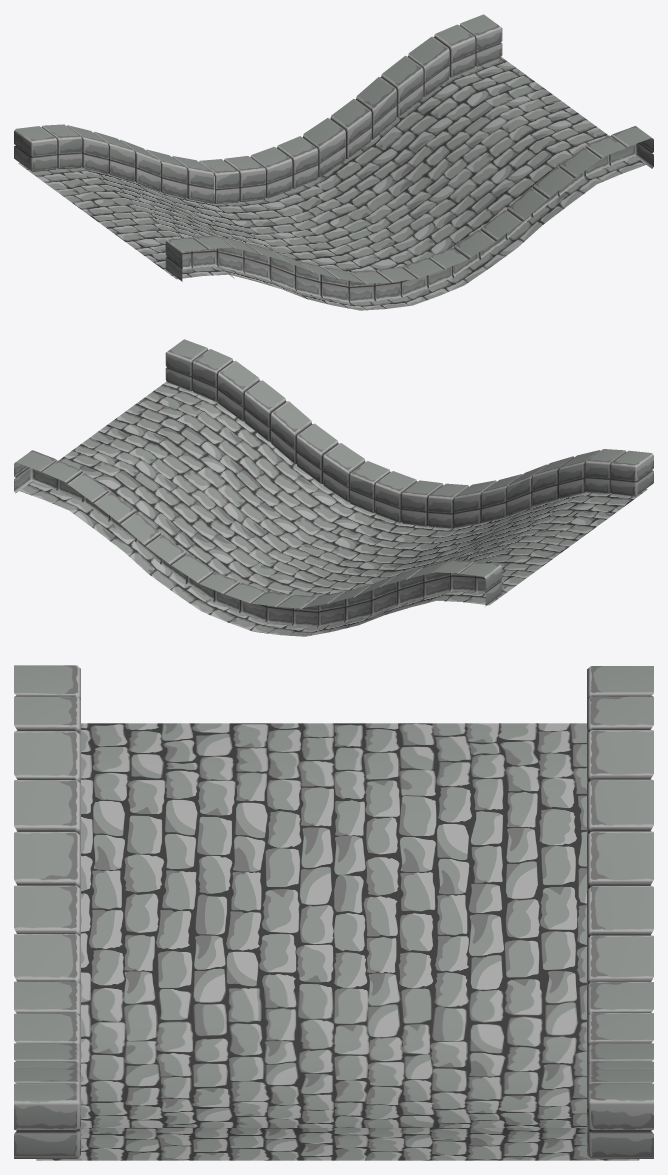
The model's file is mod_med_her_part_a_04.fbx.
3 renders of one model, top to bottom at view 1: azimuth 30°, elevation 25°; view 2: azimuth 150°, elevation 25°; view 3: azimuth 270°, elevation 25°, orthographic. The views are drawn at different scales.
Visible parts, largest first — view 1: mod_med_her_part_a_04; view 2: mod_med_her_part_a_04; view 3: mod_med_her_part_a_04.
Part boxes in pixels (x1,y1,x2,y2): mod_med_her_part_a_04: (14,14,653,310); mod_med_her_part_a_04: (14,339,653,636); mod_med_her_part_a_04: (14,665,653,1160).
Bounding box in the file's own units: 180 × 42.09 × 111.
